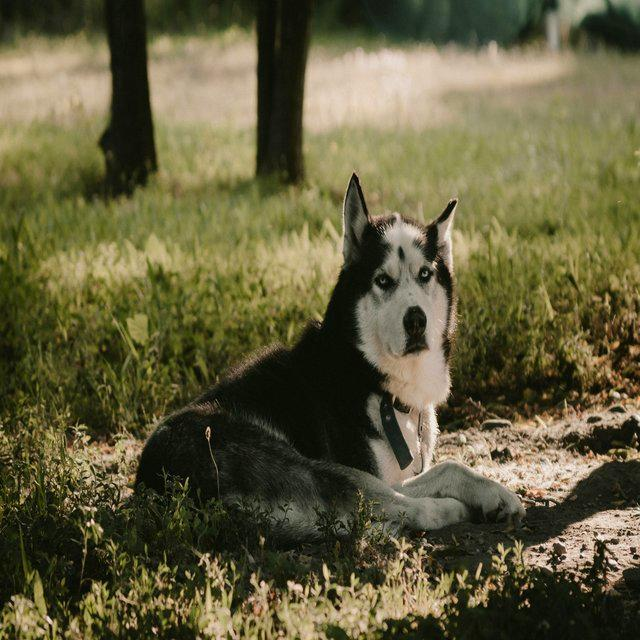husky: (132, 169, 527, 550)
